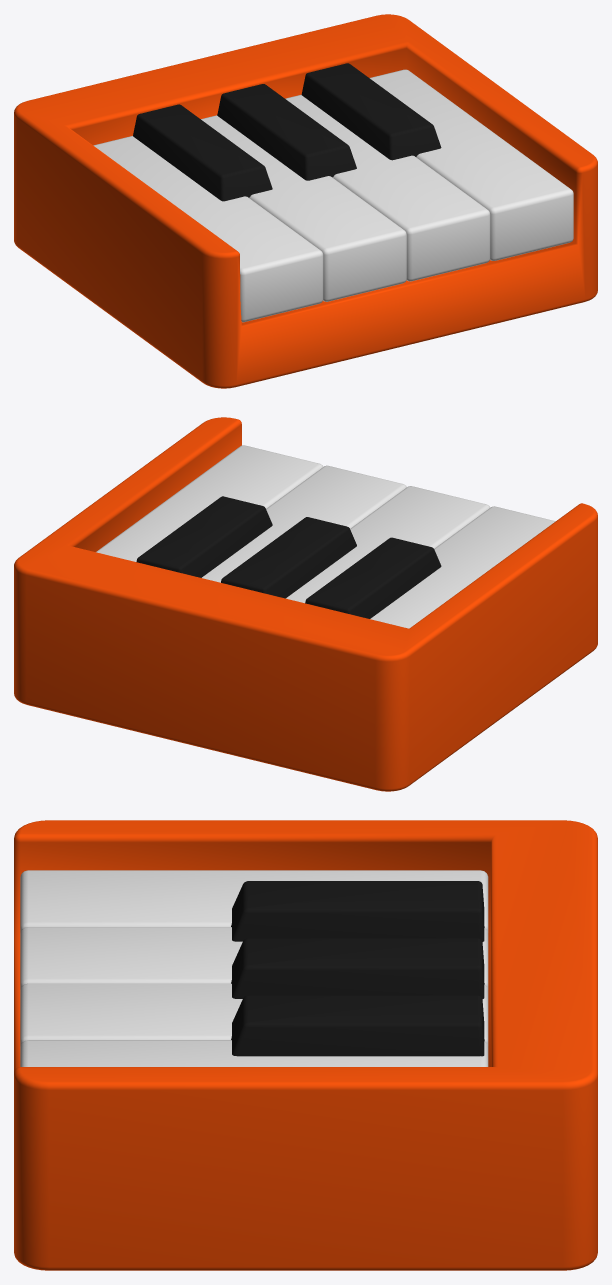
Rendered from piano.glb.
3 renders of one model, top to bottom at view 1: azimuth 30°, elevation 25°; view 2: azimuth 150°, elevation 25°; view 3: azimuth 270°, elevation 25°, orthographic. The views are drawn at different scales.
Parts seen in each view (by area): view 1: Cube.002; view 2: Cube.002; view 3: Cube.002.
Part boxes in pixels (bbox=[...]): Cube.002: bbox=[14, 14, 597, 388]; Cube.002: bbox=[14, 417, 597, 791]; Cube.002: bbox=[14, 820, 597, 1270].
Bounding box in the file's own units: 5.76 × 1.9 × 5.33.
